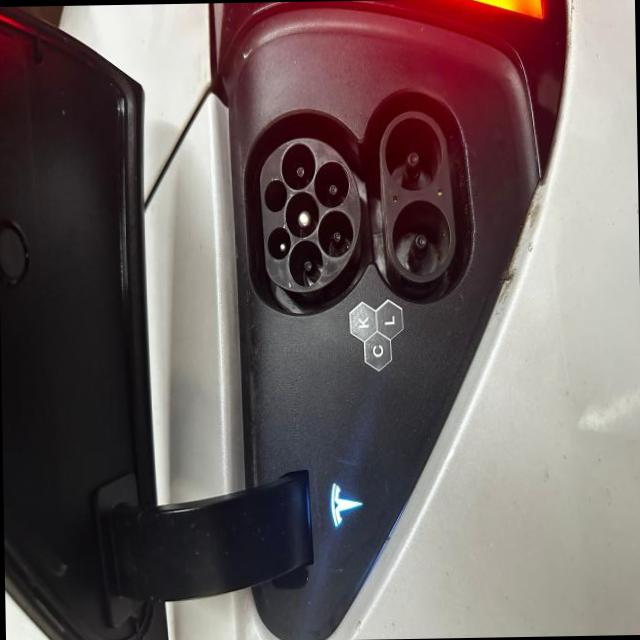inlet: (259, 136, 360, 291)
inlet-above-left: (267, 226, 290, 258)
inlet-above-right: (264, 178, 287, 211)
inlet-below-left: (317, 210, 353, 256)
inlet-below-right: (314, 160, 349, 207)
inlet-center: (284, 190, 319, 237)
inlet-center-left: (288, 238, 323, 285)
inlet-center-right: (280, 141, 315, 189)
